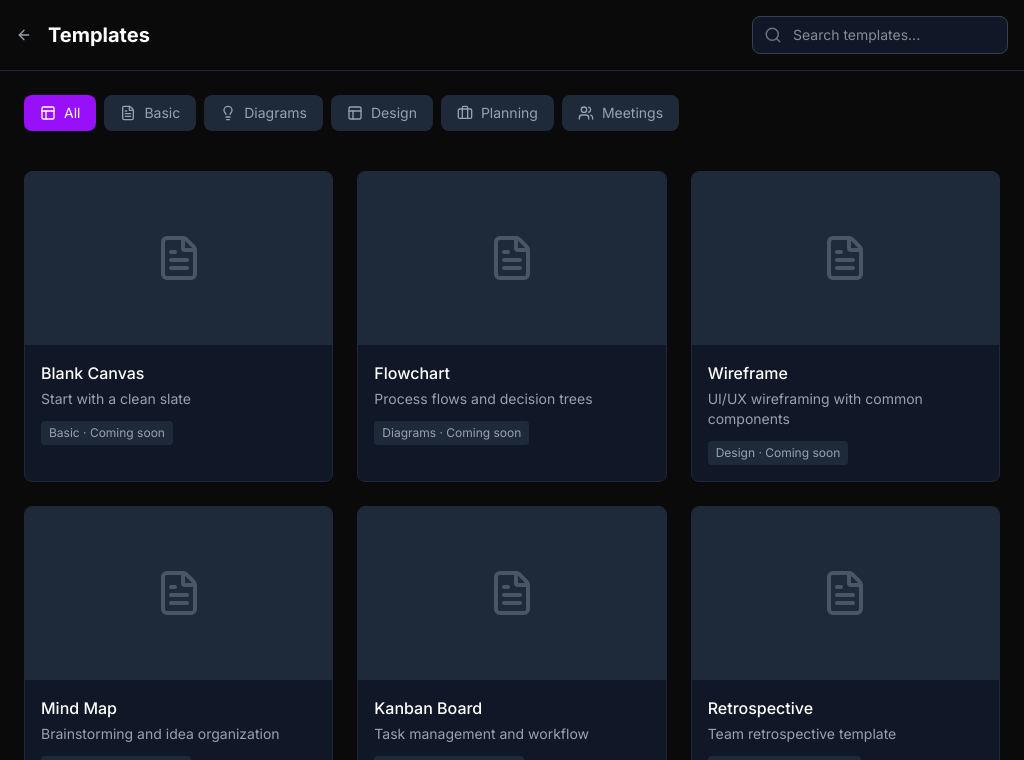
Test case: /templates — filtering › renders nothing and says so for a query that matches no template
In the field with placeholder "Search templates...": (880, 35) [752,16,1008,54], type "zzzz-nothing-matches"
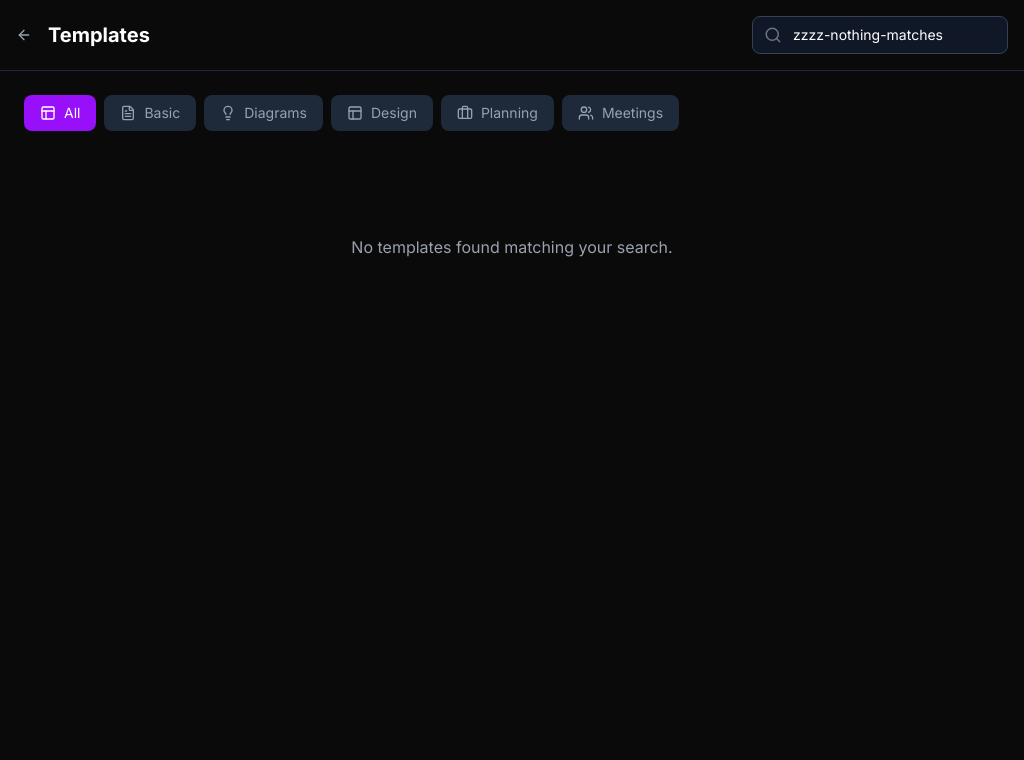
Now the text "No templates found matching your search." is shown, box [351,237,673,257]
